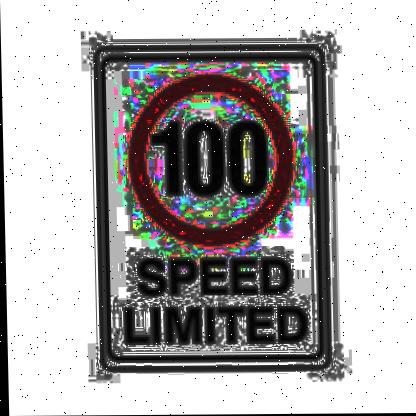Speed Limit -100-: (122, 74, 298, 253)
